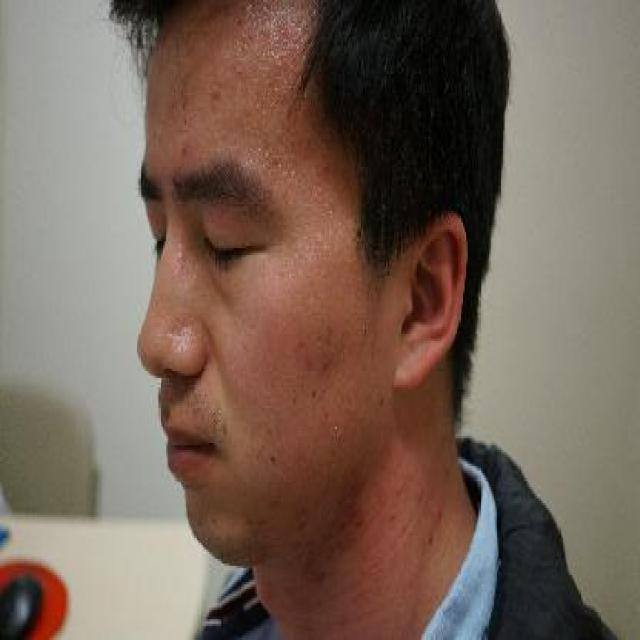dark spot: (174, 134, 195, 164), (206, 79, 226, 109), (294, 329, 311, 362)
